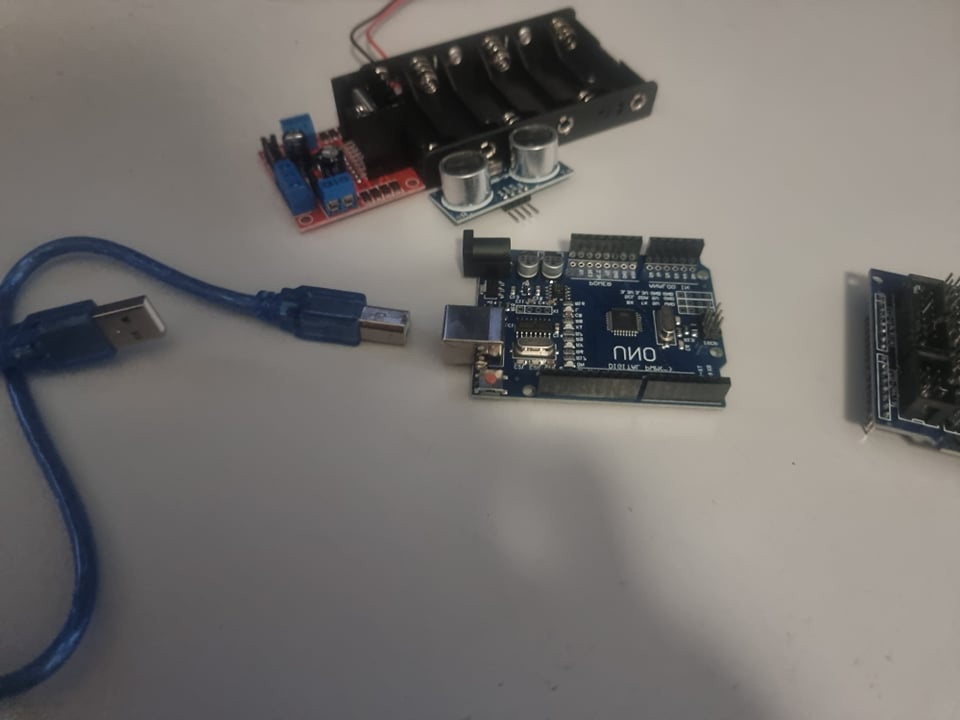5V EXPANSION: (867, 266, 959, 448)
BATTERY BOX: (416, 1, 662, 151)
MOTOR: (254, 62, 425, 237)
SENSOR: (433, 124, 579, 222)
UNO R3: (435, 224, 739, 413)
